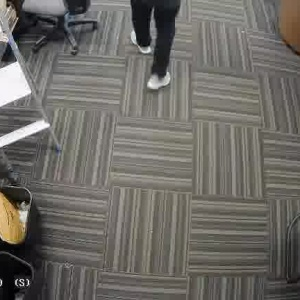person: (118, 0, 198, 83)
